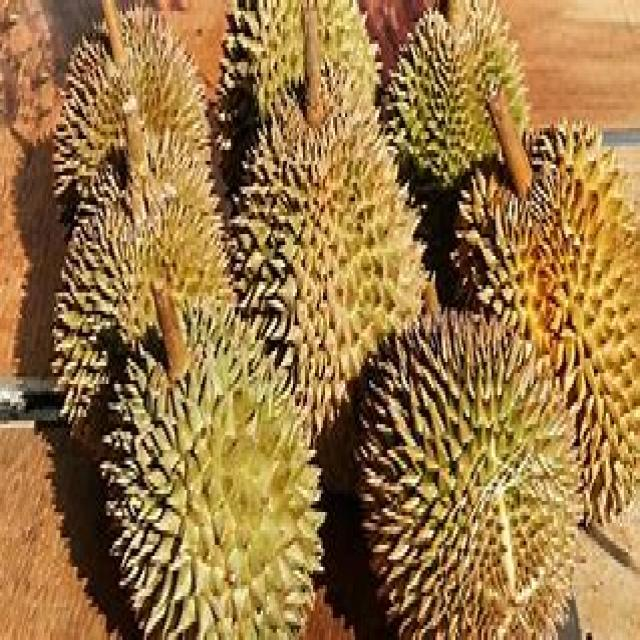mature: (230, 64, 428, 493), (450, 121, 640, 521), (358, 310, 576, 638)
